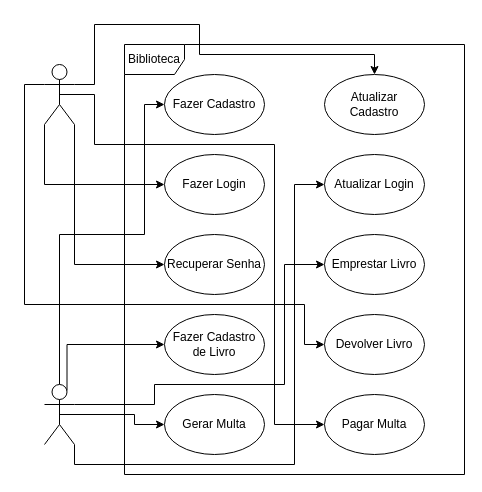
This 482x492 diagram has some shape labels left out. Here are the shapes that lost their labels. From the top down, the box of each, then its label:
(44, 64, 74, 124): Aluno
(44, 384, 74, 444): Funcionário
